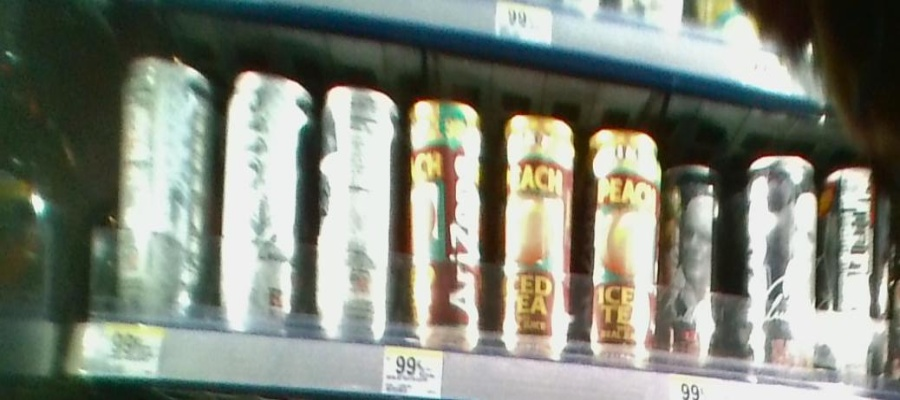bottle: (111, 45, 218, 339), (218, 61, 312, 338), (316, 71, 403, 354), (492, 98, 577, 372), (409, 83, 486, 353), (583, 118, 663, 361), (742, 140, 818, 382), (821, 152, 895, 394), (663, 148, 729, 369)
